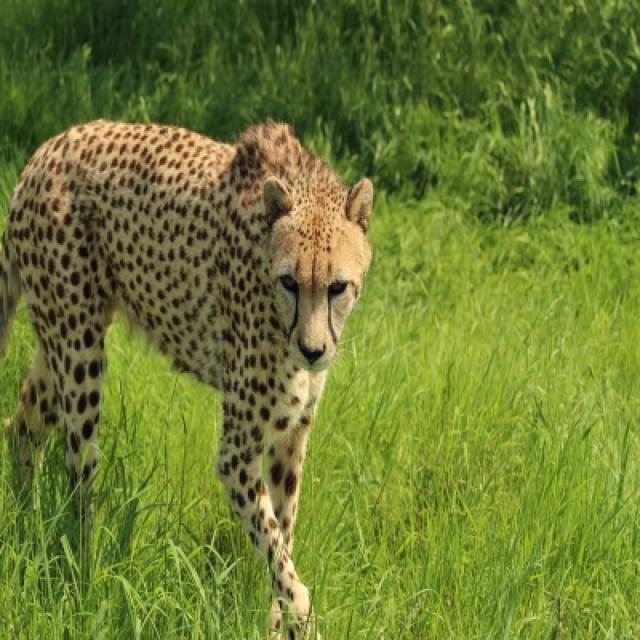Cheetah: (0, 120, 374, 638)
